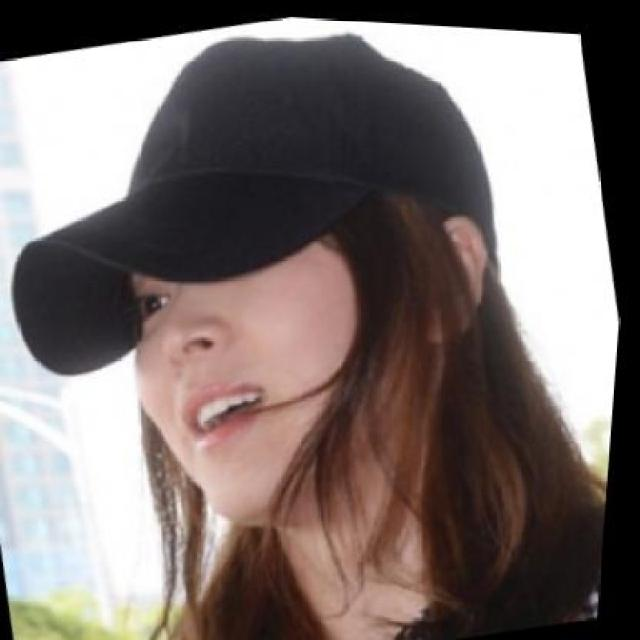hat: (18, 28, 502, 374)
